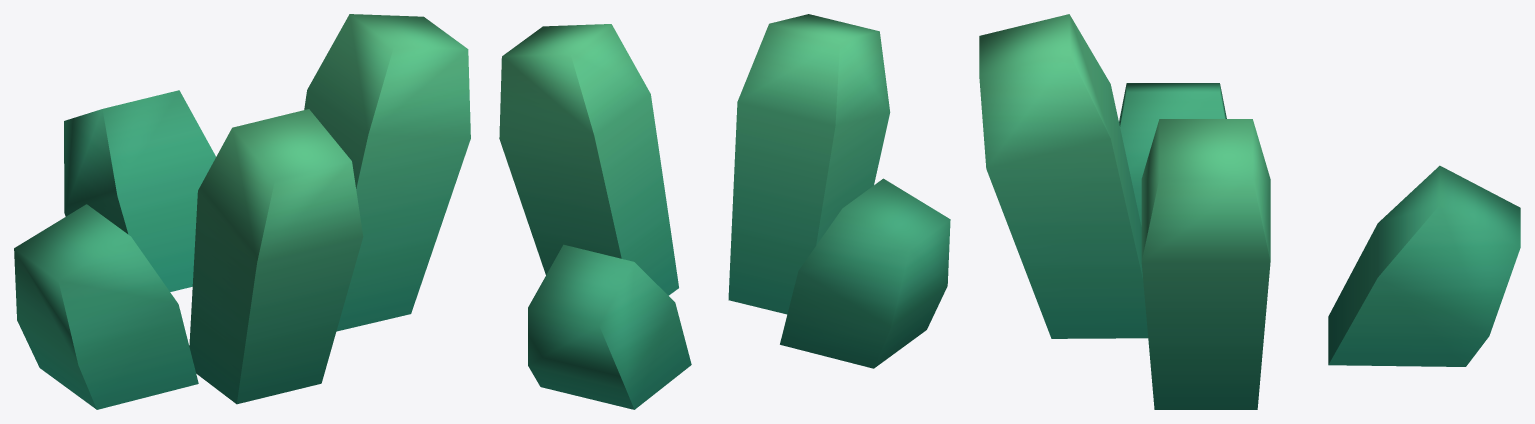
File: kenney-coaster-grass.glb
3 renders of one model, left to right at view 1: azimuth 30°, elevation 25°; view 2: azimuth 150°, elevation 25°; view 3: azimuth 270°, elevation 25°, orthographic. The views are drawn at different scales.
Visible parts, largest first — view 1: grass; view 2: grass; view 3: grass.
Part boxes in pixels (x1,y1,x2,y2): grass: (14, 14, 470, 409); grass: (499, 14, 950, 409); grass: (979, 14, 1520, 409).
Bounding box in the file's own units: 0.5187 × 0.314 × 0.5437.
Materials: 1 (1 with a texture image).
